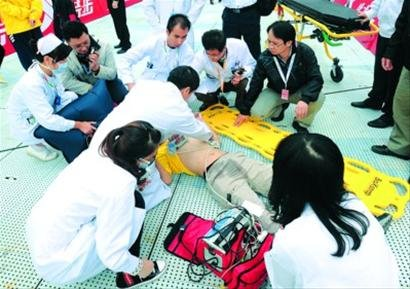10+: (1, 1, 407, 286)
down: (138, 113, 310, 225)
